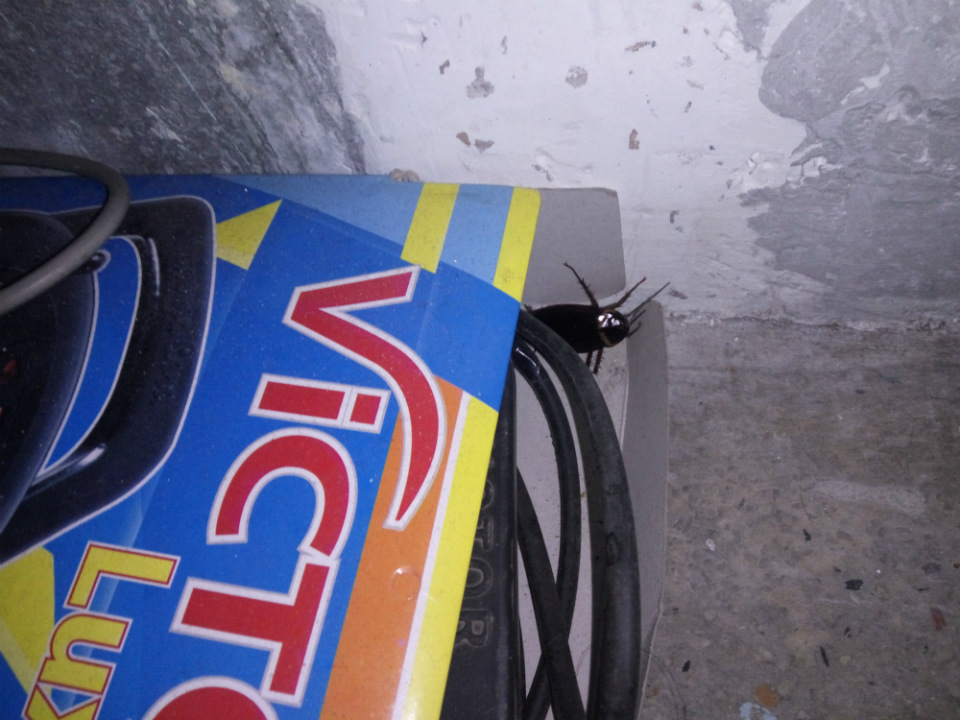cockroach: (523, 236, 689, 366)
